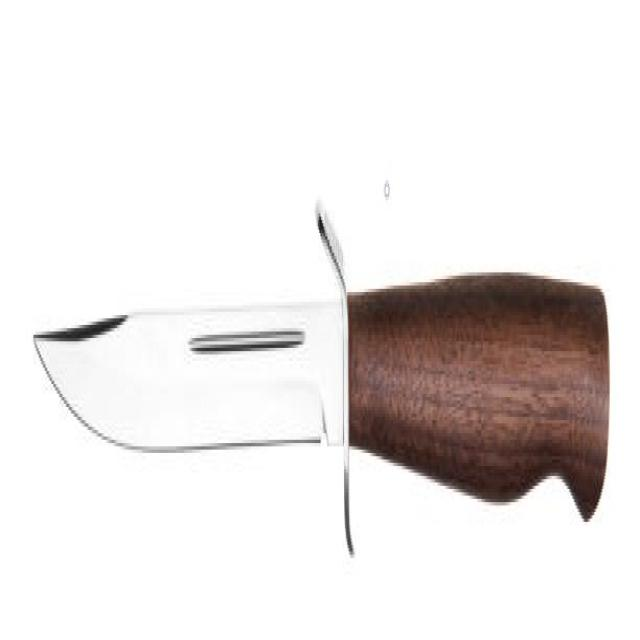knife: (30, 177, 614, 581)
